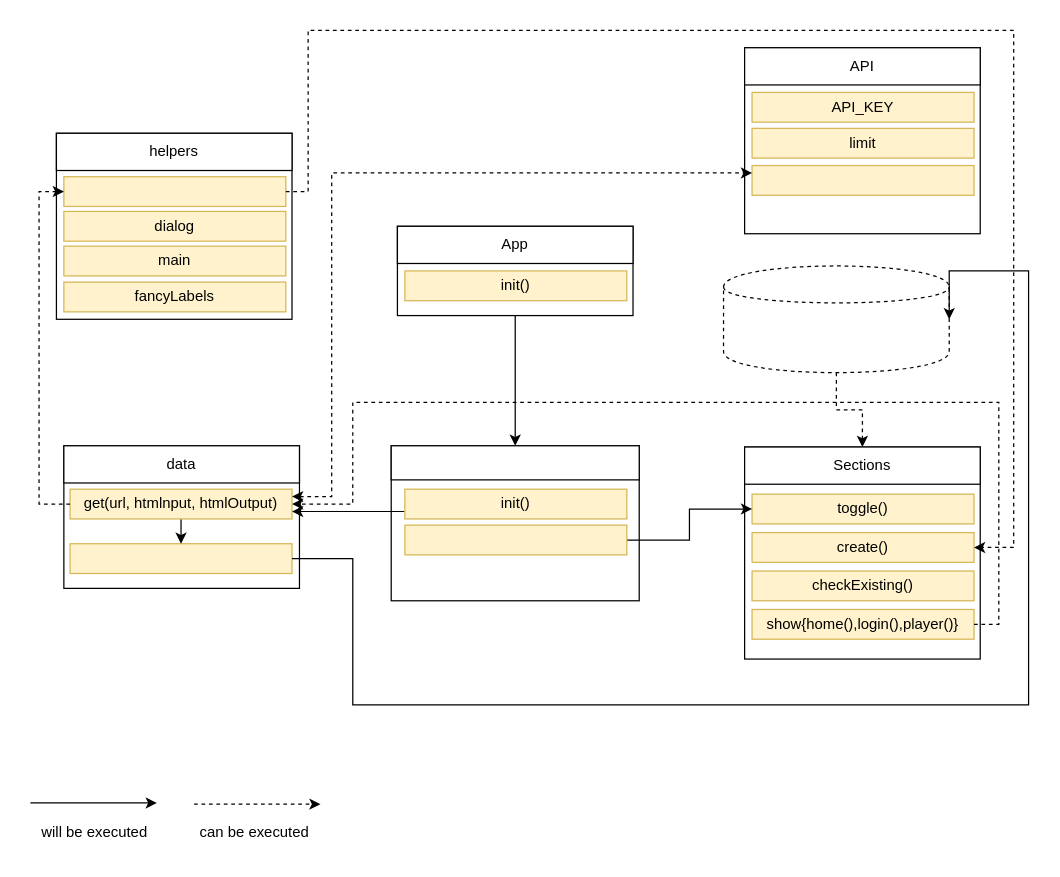
Some shapes in this 1060 by 877 pixel diagram are drawn without their labels. The centre of each missing label's shape, as x and y in pixels:
"hashChange" goes at (515,539).
"localStorage" goes at (835,319).
"Routes" goes at (514,462).
"save()" goes at (180,558).
"spinner{ add(), remove()}" goes at (174,190).
"url(songId)" goes at (862,179).
